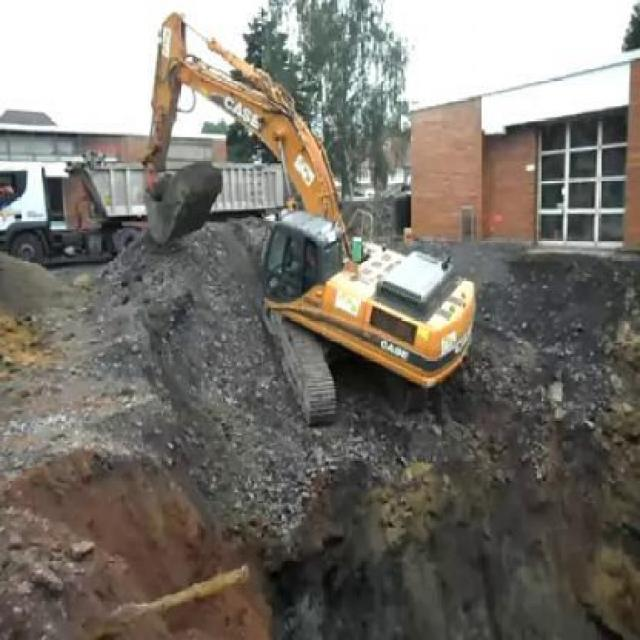Dump Truck: (0, 151, 285, 263)
Excavator: (136, 7, 478, 430)
